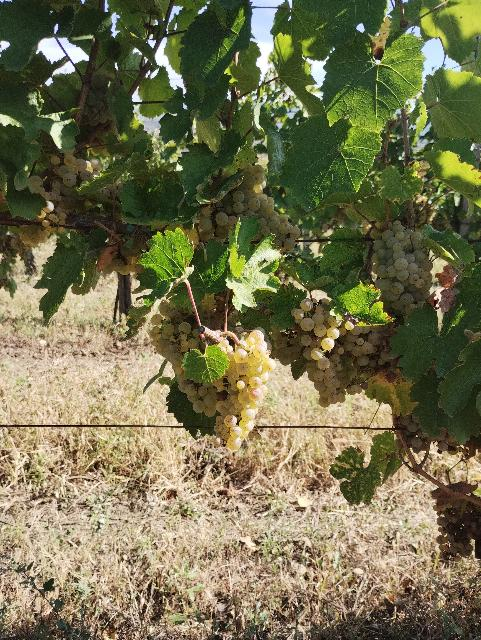grapes: (272, 299, 382, 408), (214, 330, 276, 450), (150, 302, 216, 412), (371, 220, 434, 318)
